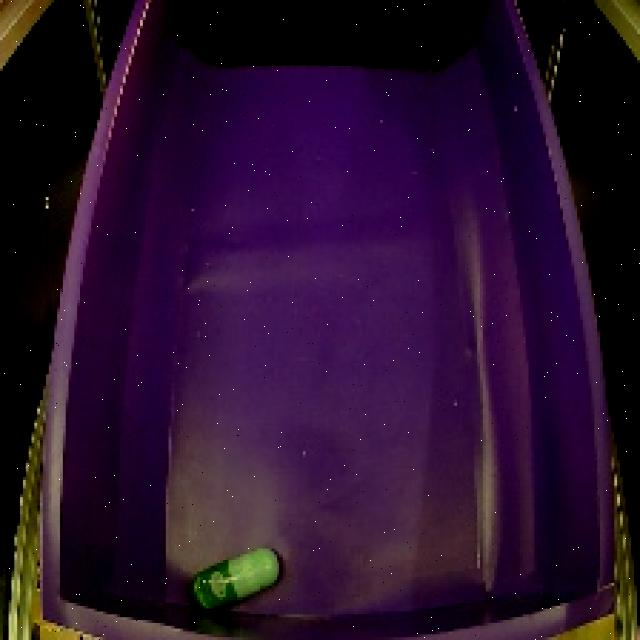small: (179, 532, 294, 618)
